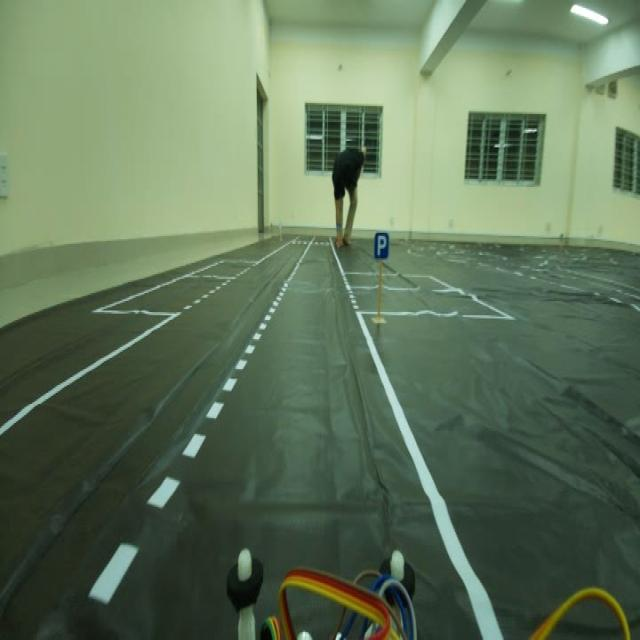parking: (372, 224, 389, 267)
